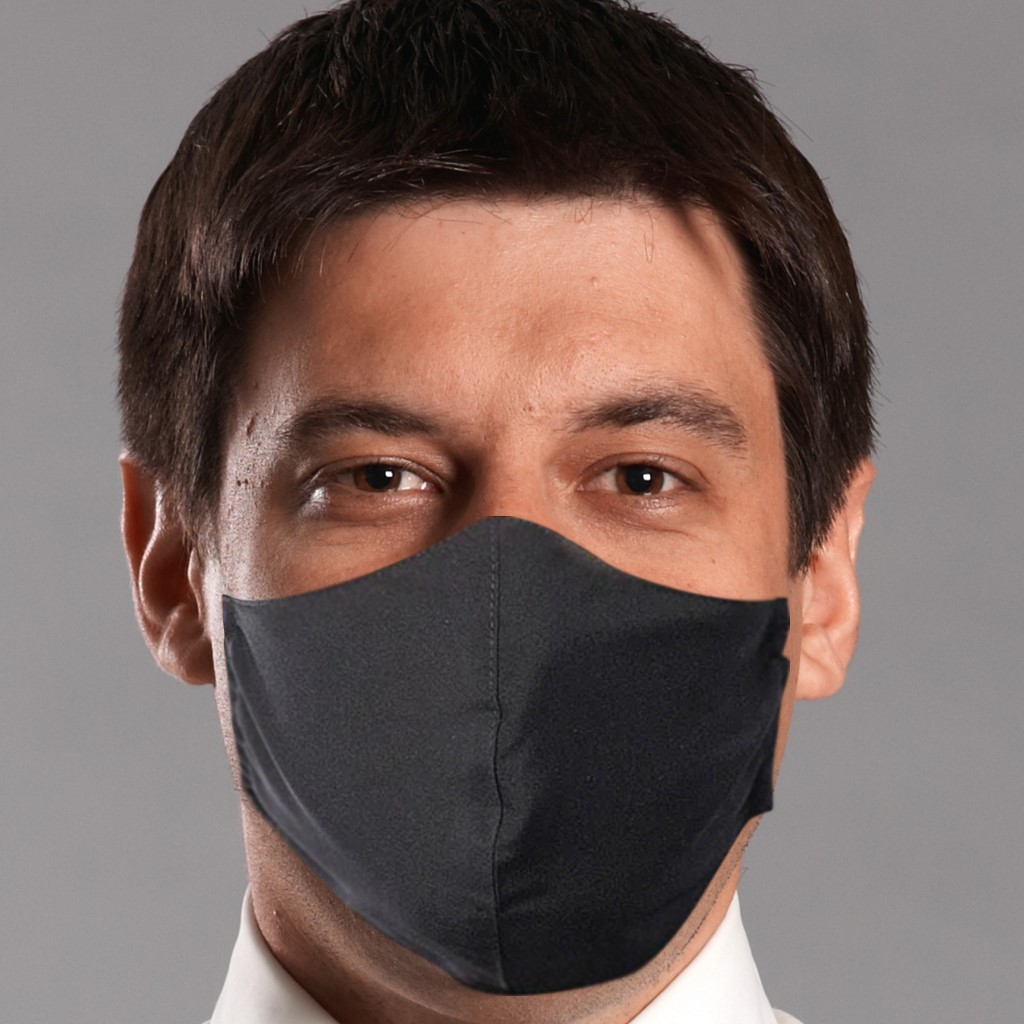con_mascara: (175, 198, 832, 990)
